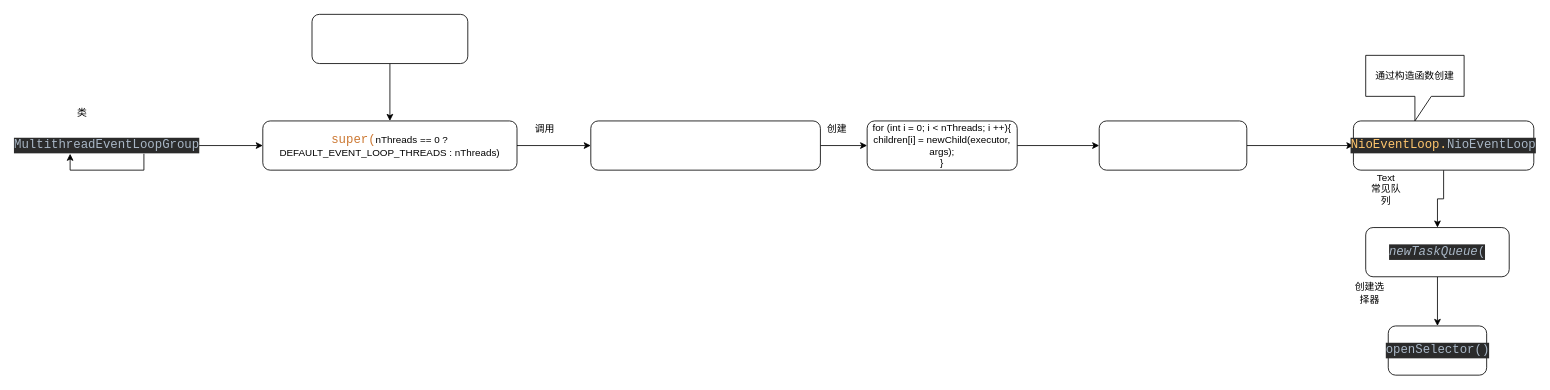
Image size: 1550x390. Some labels were removed from this diagram. Each missing label, with the box of its shape:
MultithreadEventExecutorGroup. MultithreadEventExecutorGroup（）: (590, 120, 820, 170)
new NioEventLoopGroup( 1 ): (311, 14, 468, 64)
NioEventLoopGroup.newChild( ... new NioEventLoop): (1098, 120, 1247, 170)
